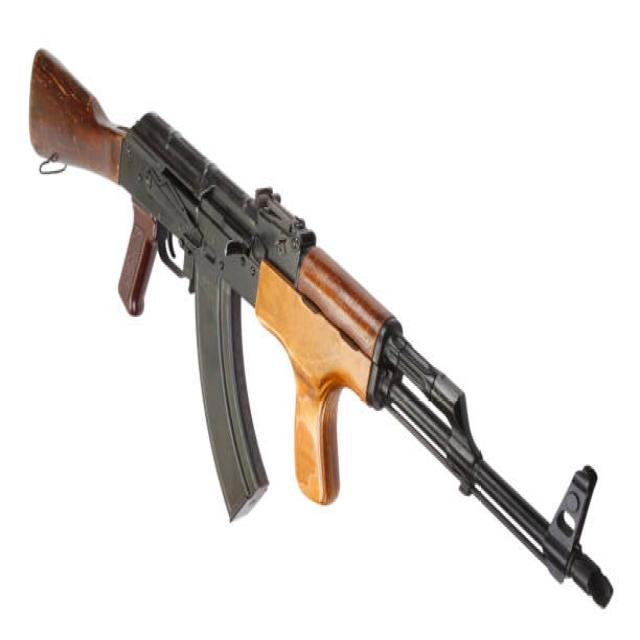rifle: (25, 40, 619, 616)
